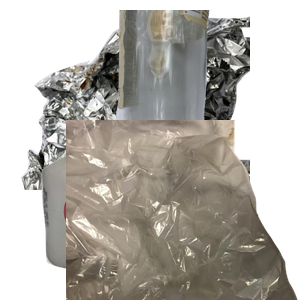glass: (113, 10, 300, 190)
metal: (19, 14, 259, 194)
plastic: (39, 149, 203, 300)
trash: (66, 120, 300, 300)
